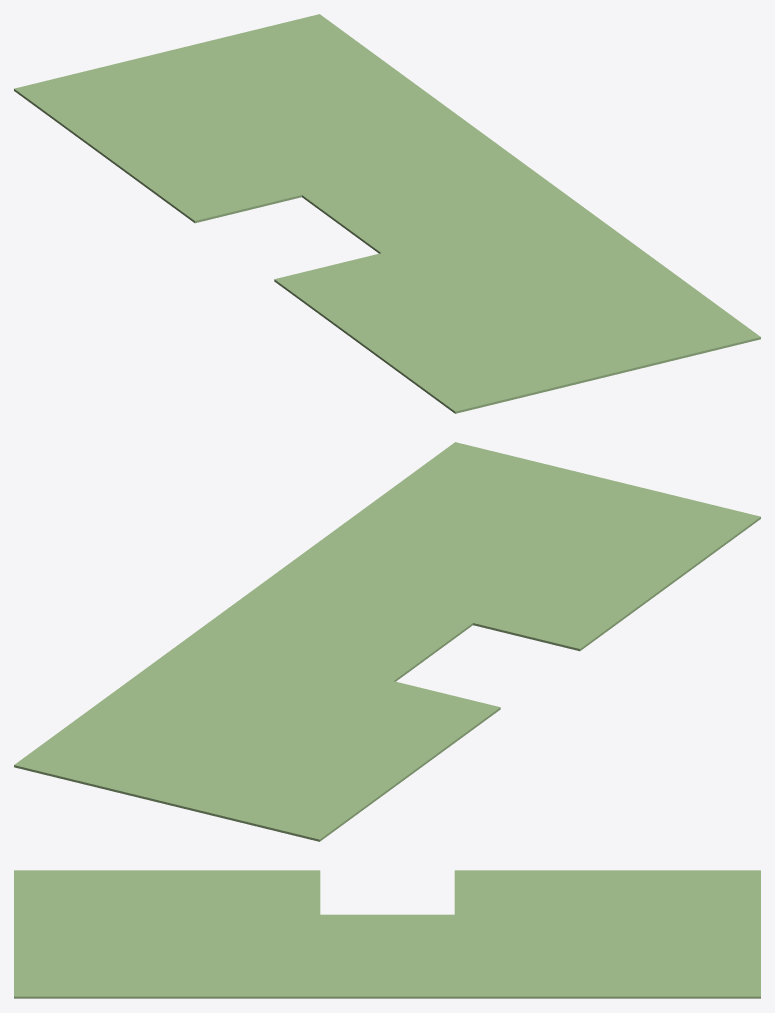
Rendered from lawn_right.glb.
The picture shows the model from 3 angles, top to bottom: view 1: azimuth 30°, elevation 25°; view 2: azimuth 150°, elevation 25°; view 3: azimuth 270°, elevation 25°; orthographic projection. The views are drawn at different scales.
Visible parts, largest first — view 1: lawn_right_grass; view 2: lawn_right_grass; view 3: lawn_right_grass.
Part boxes in pixels (x1=…): lawn_right_grass: x1=14, y1=14, x2=760, y2=413; lawn_right_grass: x1=14, y1=442, x2=760, y2=841; lawn_right_grass: x1=14, y1=870, x2=760, y2=998.
Bounding box in the file's own units: 4 × 0.028 × 10.
